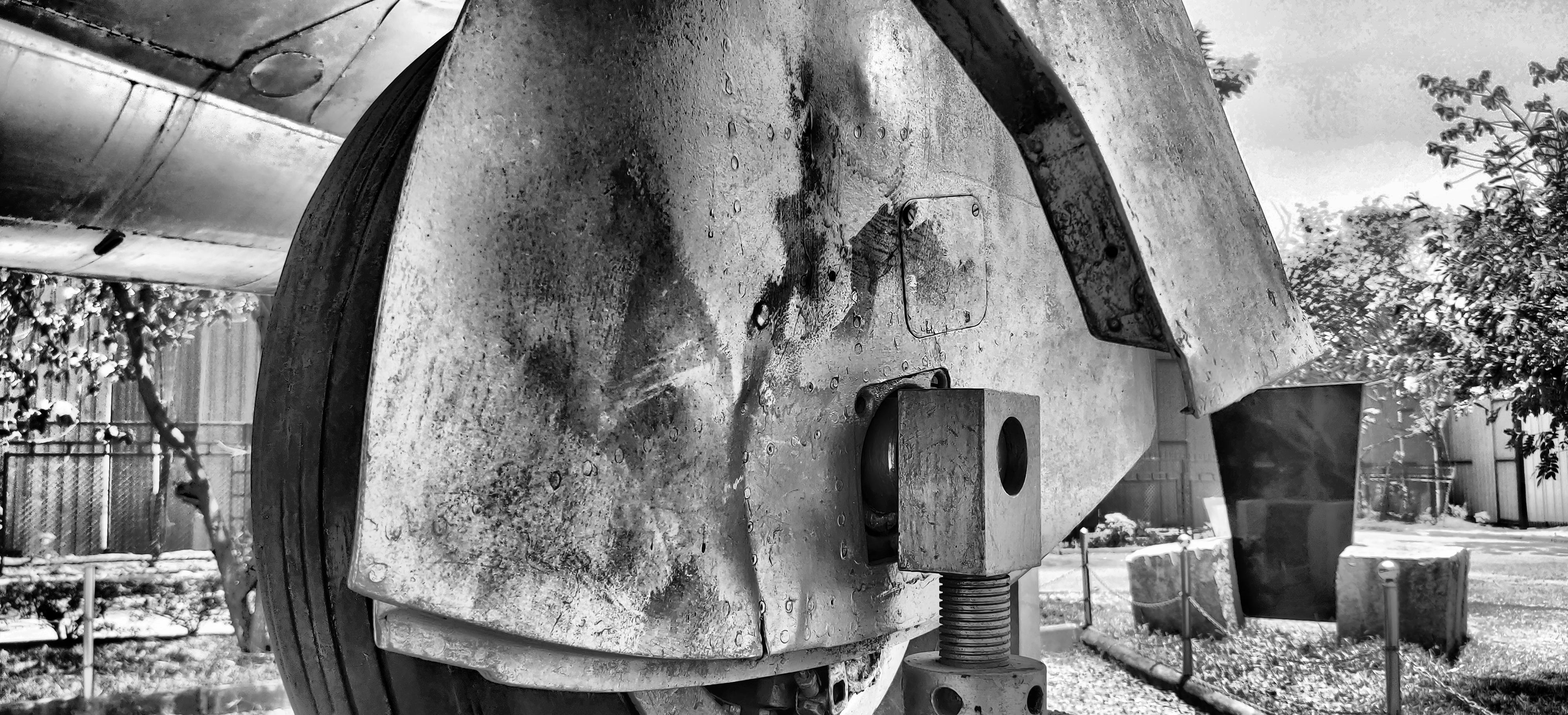crack: (758, 613, 771, 657)
dent: (588, 171, 727, 404), (729, 414, 769, 601), (759, 188, 817, 306), (633, 555, 692, 617), (729, 332, 770, 407), (854, 64, 877, 116), (1176, 338, 1202, 380), (793, 591, 809, 650)
missing-head: (855, 393, 869, 419)
paint-peel-off: (866, 203, 899, 288), (799, 110, 814, 170), (799, 60, 815, 105)
scratch: (941, 170, 1041, 210)
